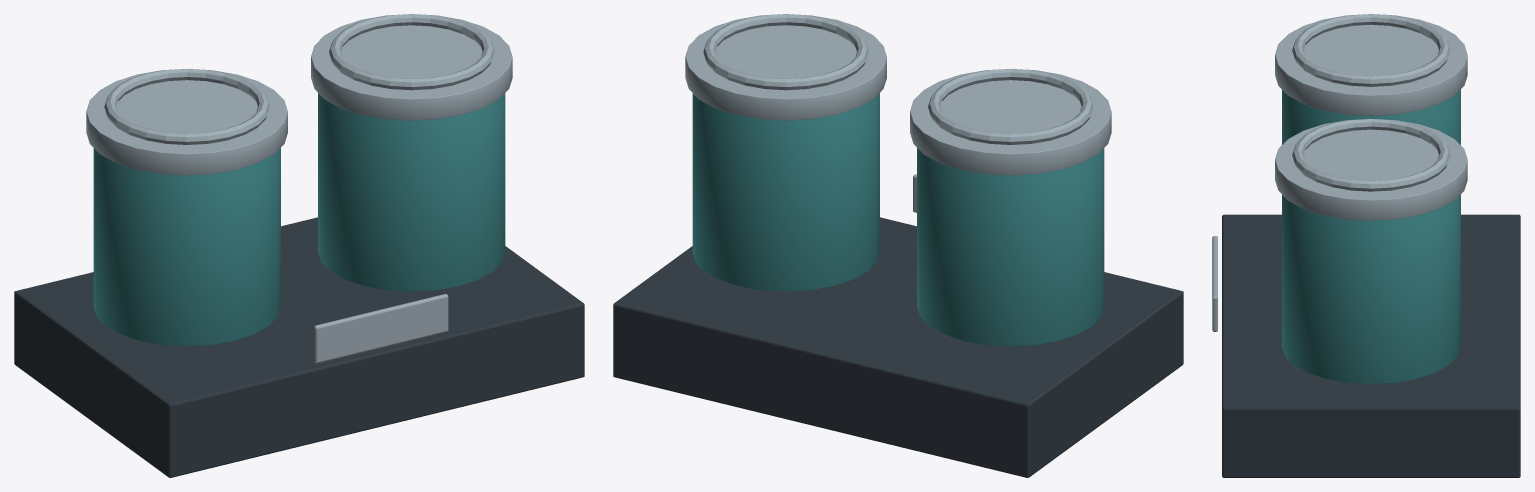
File: pump-skid.glb
The picture shows the model from 3 angles, left to right: view 1: azimuth 30°, elevation 25°; view 2: azimuth 150°, elevation 25°; view 3: azimuth 270°, elevation 25°; orthographic projection. The views are drawn at different scales.
Visible parts, largest first — view 1: Skid, Decorative pump housing, Decorative pump housing.001, Top cover.001, Top cover, Equipment nameplate, Detail rim, Detail rim.001; view 2: Skid, Decorative pump housing, Decorative pump housing.001, Top cover.001, Top cover, Detail rim, Detail rim.001; view 3: Skid, Decorative pump housing.001, Top cover.001, Top cover, Detail rim, Detail rim.001, Decorative pump housing, Equipment nameplate.
Part boxes in pixels (x1,y1,x2,y2): Skid: [14, 217, 584, 477]; Decorative pump housing: [93, 148, 280, 346]; Decorative pump housing.001: [318, 93, 505, 291]; Top cover.001: [311, 15, 512, 120]; Top cover: [86, 70, 287, 175]; Equipment nameplate: [314, 294, 448, 363]; Detail rim: [104, 68, 269, 144]; Detail rim.001: [329, 14, 494, 90]; Skid: [613, 217, 1183, 477]; Decorative pump housing: [917, 148, 1104, 346]; Decorative pump housing.001: [692, 93, 879, 291]; Top cover.001: [685, 15, 886, 120]; Top cover: [910, 70, 1111, 175]; Detail rim: [928, 68, 1093, 144]; Detail rim.001: [703, 14, 868, 90]; Skid: [1222, 214, 1520, 477]; Decorative pump housing.001: [1282, 194, 1460, 384]; Top cover.001: [1275, 120, 1467, 220]; Top cover: [1275, 15, 1467, 115]; Detail rim: [1292, 14, 1450, 86]; Detail rim.001: [1292, 118, 1450, 191]; Decorative pump housing: [1282, 89, 1460, 144]; Equipment nameplate: [1212, 236, 1217, 331].
Size of the model in its own units: 2 by 1.37 by 1.34.
